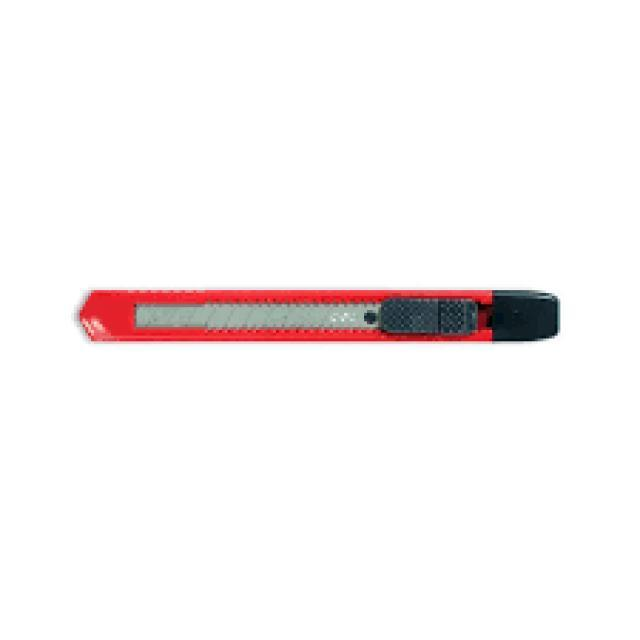cutter: (62, 276, 576, 356)
